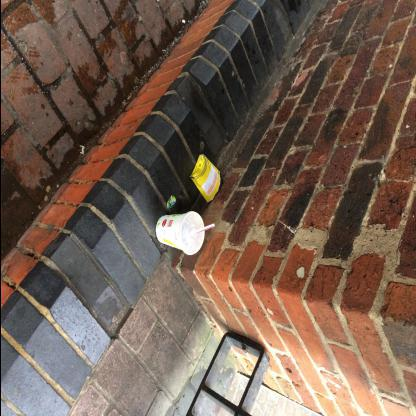karton: (155, 212, 205, 256), (190, 155, 222, 205)
plastik: (194, 224, 216, 236)
